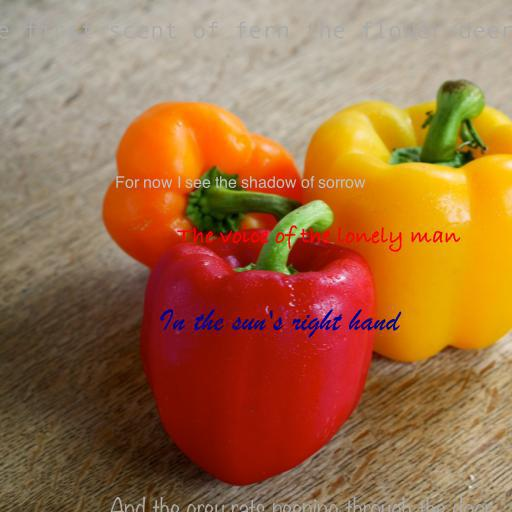Andale Mono: (0, 21, 512, 39)
Bradley Hand: (176, 224, 460, 252)
Brush Script MT: (159, 309, 399, 338)
Noteworthy: (109, 496, 493, 512)
SignPainter: (114, 176, 366, 189)
